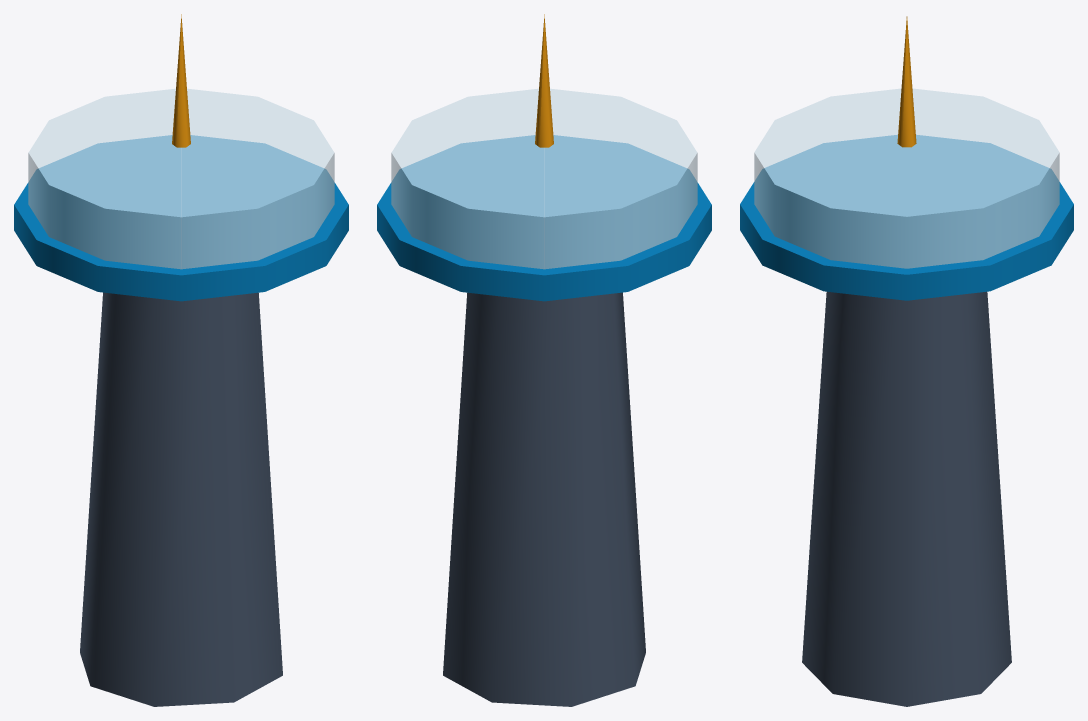
Rendered from sample_tower.glb.
The picture shows the model from 3 angles, left to right: view 1: azimuth 30°, elevation 25°; view 2: azimuth 150°, elevation 25°; view 3: azimuth 270°, elevation 25°; orthographic projection.
Visible parts, largest first — view 1: LookoutTower; view 2: LookoutTower; view 3: LookoutTower.
Part boxes in pixels (x1,y1,x2,y2): LookoutTower: (14,14,348,706); LookoutTower: (377,14,711,706); LookoutTower: (740,16,1073,706).
Bounding box in the file's own units: 7 × 15 × 7.
